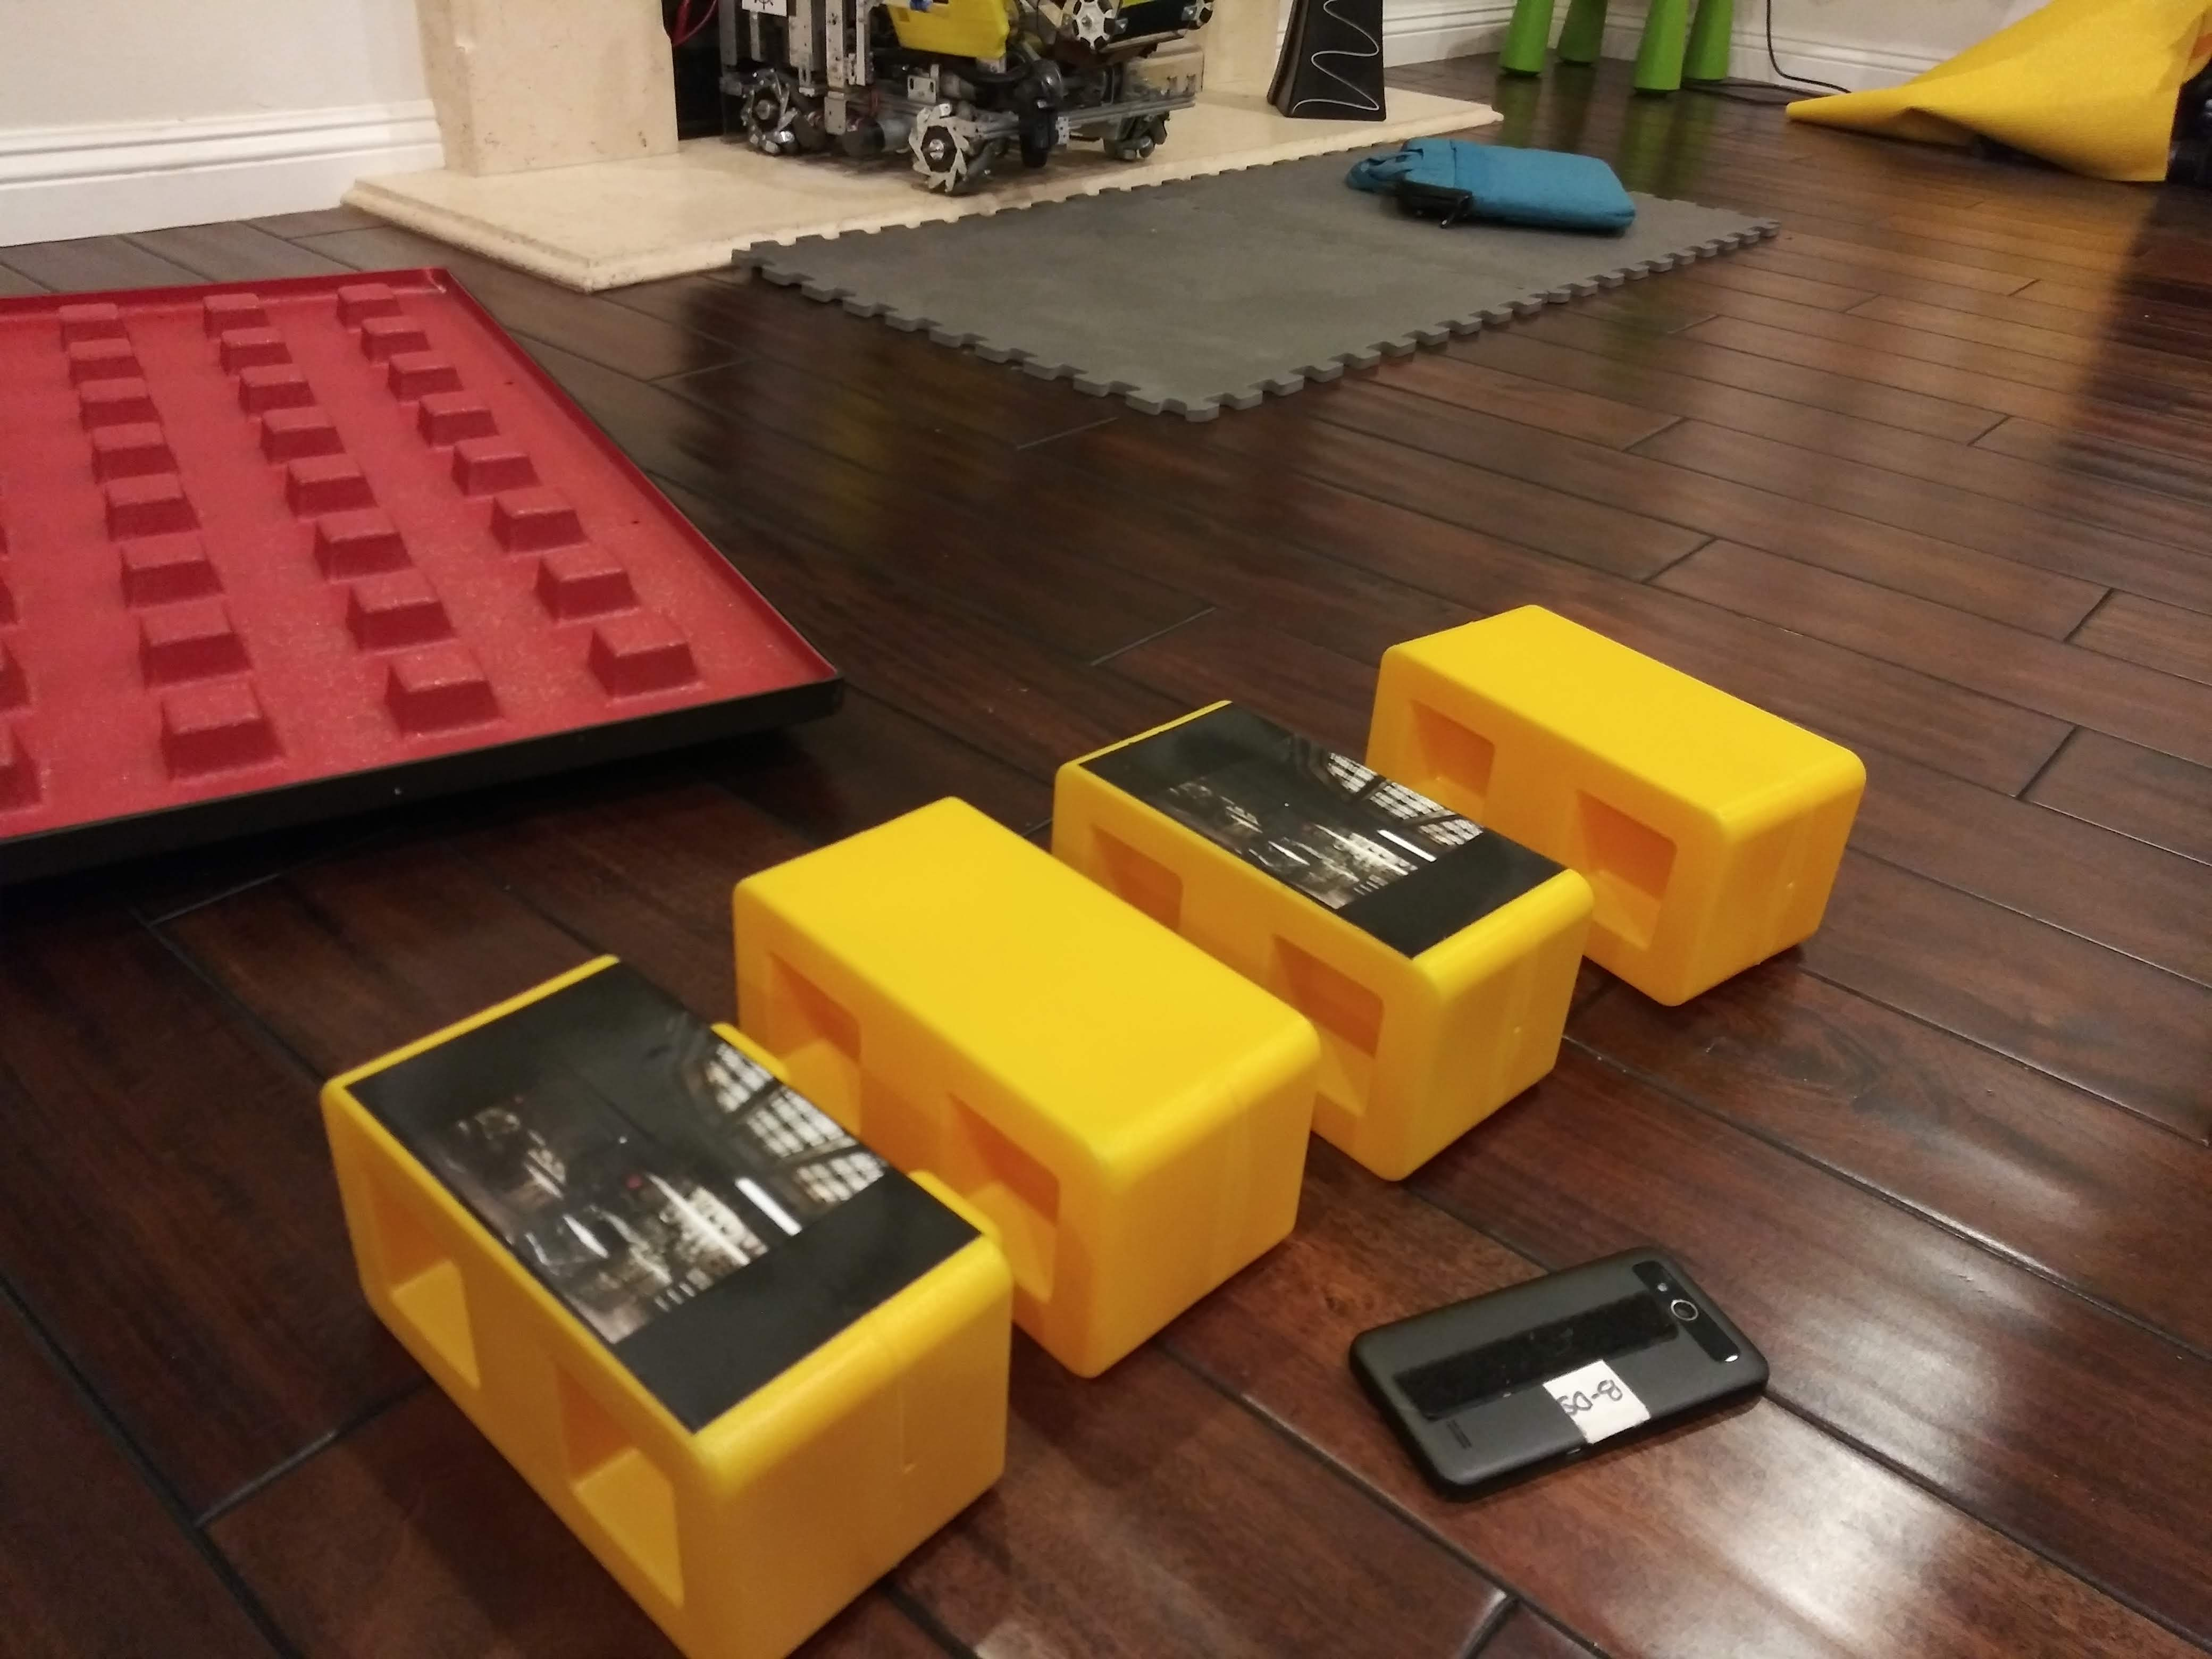skystone: (333, 1006, 864, 1547), (1132, 701, 1521, 1058)
stone: (855, 812, 1244, 1190), (1447, 617, 1838, 859)
